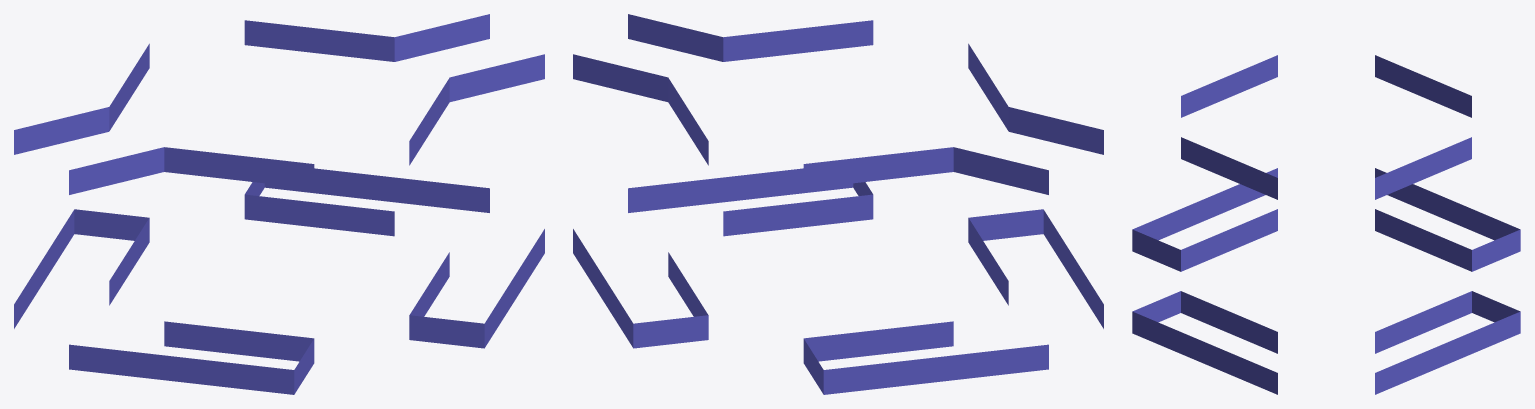
File: StasisRoom_002_Floor_Sides.fbx
3 renders of one model, left to right at view 1: azimuth 30°, elevation 25°; view 2: azimuth 150°, elevation 25°; view 3: azimuth 270°, elevation 25°, orthographic. The views are drawn at different scales.
Visible parts, largest first — view 1: StasisRoom_002_Floor_Sides; view 2: StasisRoom_002_Floor_Sides; view 3: StasisRoom_002_Floor_Sides.
Part boxes in pixels (x1,y1,x2,y2): StasisRoom_002_Floor_Sides: [14, 14, 544, 394]; StasisRoom_002_Floor_Sides: [573, 14, 1103, 394]; StasisRoom_002_Floor_Sides: [1132, 55, 1520, 394].
Size of the model in its own units: 2000 by 800 by 1600.
